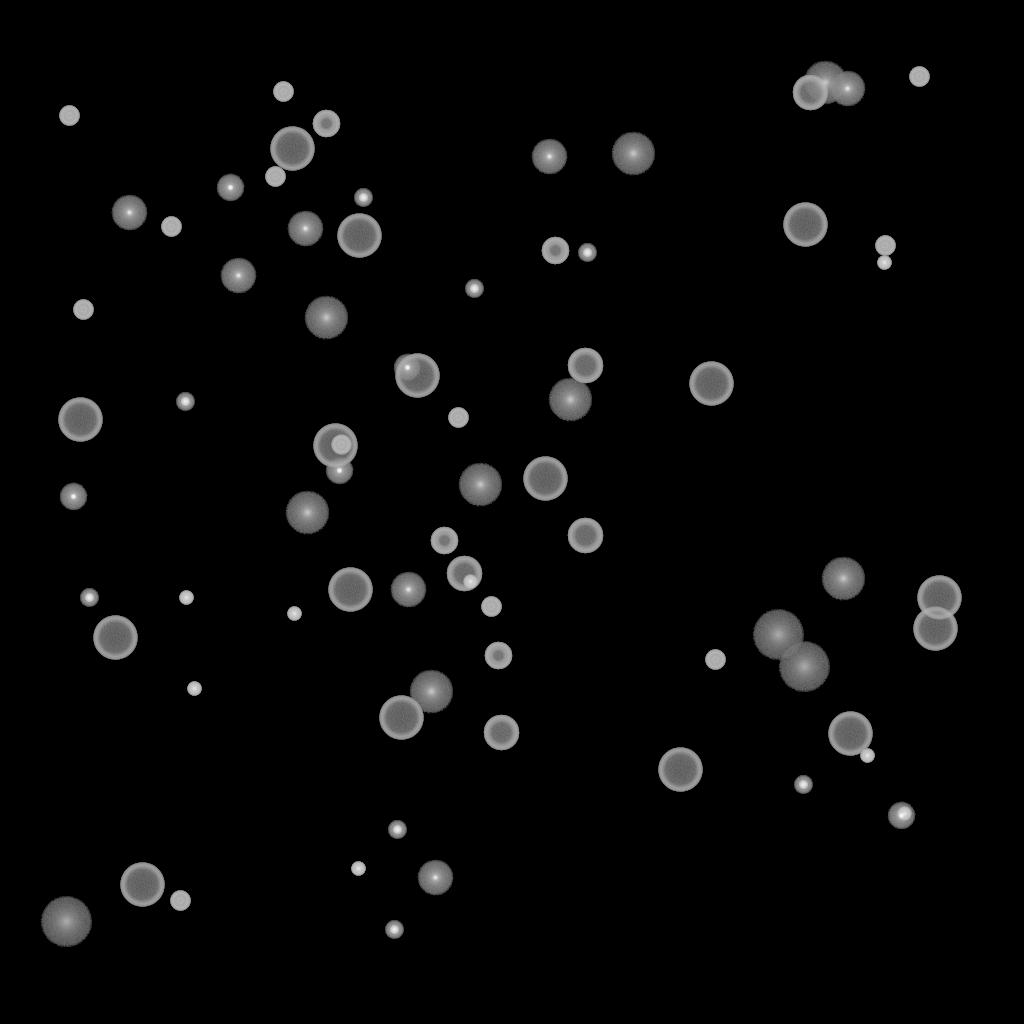depth:-10: (59, 483, 87, 511), (887, 802, 915, 830), (393, 354, 421, 382), (216, 174, 244, 202), (325, 457, 353, 485)
depth:-20: (465, 280, 483, 298), (354, 189, 372, 207), (388, 821, 406, 839), (794, 776, 812, 794), (80, 589, 98, 607), (385, 921, 403, 939), (176, 393, 194, 411), (578, 244, 596, 262)
depth:-30: (877, 256, 891, 270), (463, 575, 477, 589), (179, 591, 193, 605), (351, 862, 365, 876), (187, 682, 201, 696), (897, 807, 911, 821), (860, 749, 874, 763), (287, 607, 301, 621)
depth:-40: (331, 435, 351, 455), (273, 82, 293, 102), (875, 236, 895, 256), (265, 167, 285, 187), (59, 106, 79, 126), (481, 597, 501, 617), (448, 408, 468, 428), (170, 891, 190, 911), (73, 300, 93, 320), (909, 67, 929, 87), (705, 650, 725, 670), (161, 217, 181, 237)
depth:-50: (430, 527, 458, 555), (484, 642, 512, 670), (312, 110, 340, 138), (541, 237, 569, 265)
depth:-60: (567, 348, 603, 384), (446, 556, 482, 592), (792, 75, 828, 111), (567, 518, 603, 554), (483, 715, 519, 751)
depth:-70: (328, 568, 372, 612), (93, 616, 137, 660), (828, 712, 872, 756), (917, 576, 961, 620), (913, 607, 957, 651), (58, 398, 102, 442), (783, 203, 827, 247), (689, 362, 733, 406), (395, 354, 439, 398), (337, 214, 381, 258), (379, 696, 423, 740), (523, 457, 567, 501), (270, 127, 314, 171), (313, 424, 357, 468), (658, 748, 702, 792), (120, 863, 164, 907)
depth:0: (417, 860, 453, 896), (287, 211, 323, 247), (531, 139, 567, 175), (220, 258, 256, 294), (111, 195, 147, 231), (390, 572, 426, 608), (829, 71, 865, 107)
depth:10: (304, 296, 348, 340), (821, 557, 865, 601), (803, 61, 847, 105), (409, 670, 453, 714), (548, 378, 592, 422), (285, 491, 329, 535), (611, 132, 655, 176), (458, 463, 502, 507)
depth:20: (752, 610, 804, 660), (40, 897, 92, 947), (778, 642, 830, 692)
